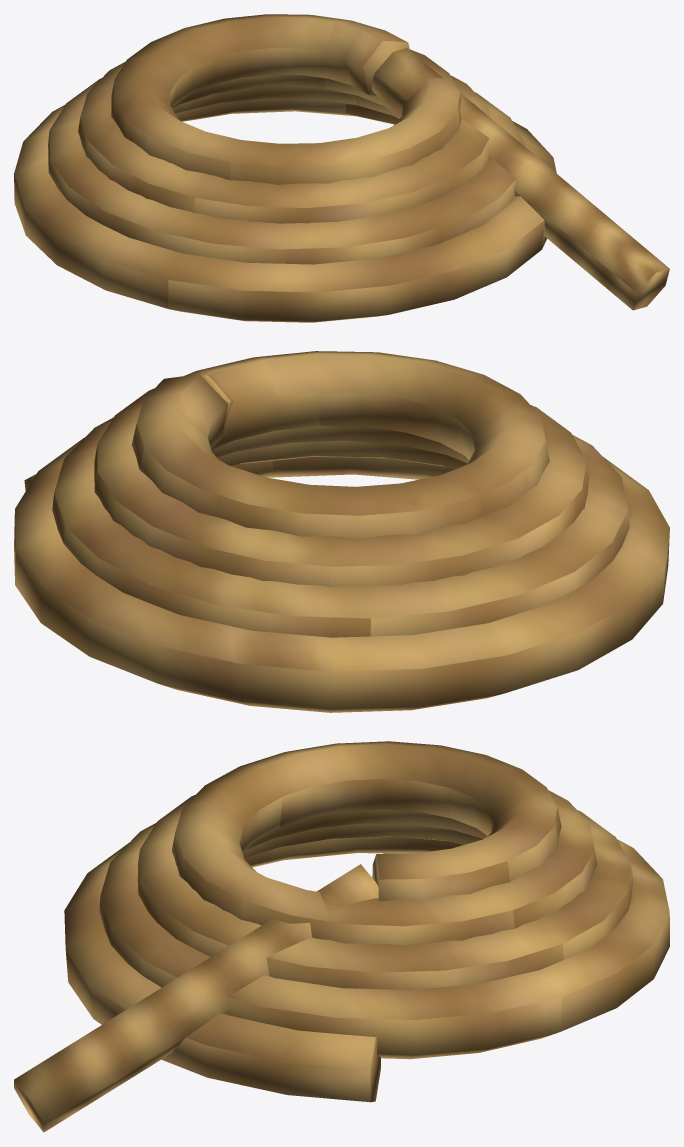
File: gourd-prop-rope.glb
3 renders of one model, top to bottom at view 1: azimuth 30°, elevation 25°; view 2: azimuth 150°, elevation 25°; view 3: azimuth 270°, elevation 25°, orthographic. The views are drawn at different scales.
Parts seen in each view (by area): view 1: coil, tail; view 2: coil; view 3: coil, tail.
Boxes of the visible parts, left/top/right/bottom form: coil: left=14, top=14, right=556, bottom=322; tail: left=371, top=48, right=669, bottom=310; coil: left=14, top=351, right=669, bottom=712; coil: left=64, top=741, right=669, bottom=1102; tail: left=14, top=864, right=378, bottom=1132.
Size of the model in its own units: 0.0204 by 0.00765 by 0.0213.
Materials: 1 (1 with a texture image).
